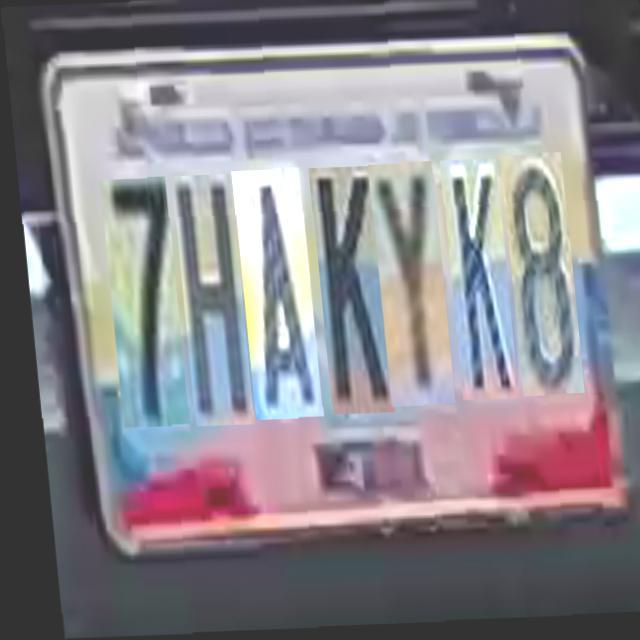7: (96, 174, 180, 422)
8: (496, 156, 575, 398)
A: (227, 167, 313, 418)
H: (168, 172, 245, 424)
K: (304, 166, 384, 414), (436, 161, 510, 402)
Y: (364, 163, 446, 407)
